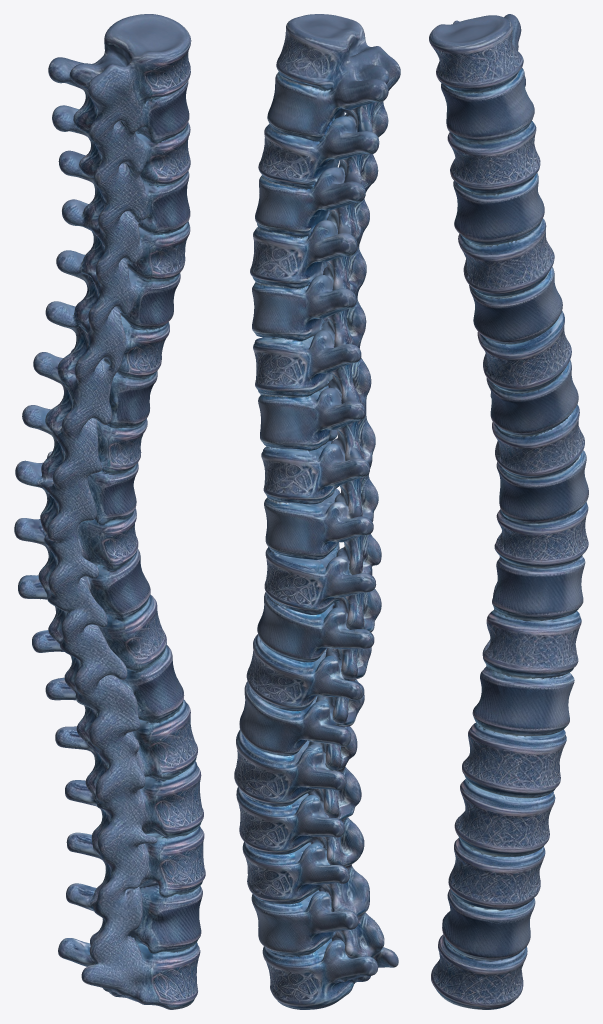
File: spine-optimized.glb
The picture shows the model from 3 angles, left to right: view 1: azimuth 30°, elevation 25°; view 2: azimuth 150°, elevation 25°; view 3: azimuth 270°, elevation 25°; orthographic projection.
Visible parts, largest first — view 1: mesh_node; view 2: mesh_node; view 3: mesh_node.
Part boxes in pixels (box(x1,y1,x2,y2)): mesh_node: box(14, 14, 205, 1009); mesh_node: box(234, 14, 400, 1009); mesh_node: box(429, 14, 588, 1009).
Bounding box in the file's own units: 0.3178 × 1.9 × 0.2845.
1 material, 1 textured.
